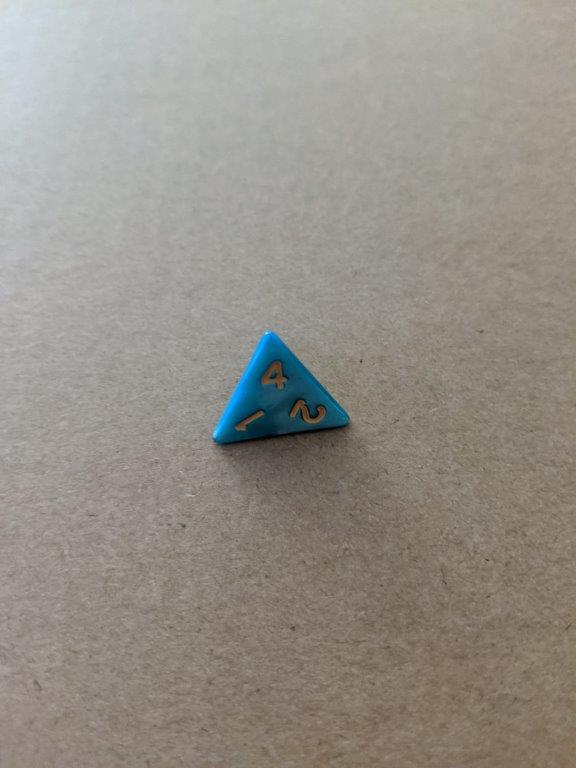d4-4: (211, 327, 354, 447)
